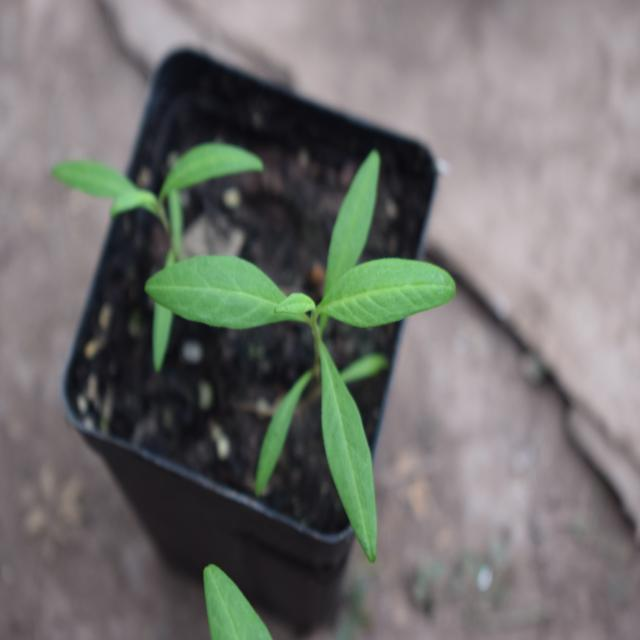white_smart_weed: (126, 189, 452, 579)
